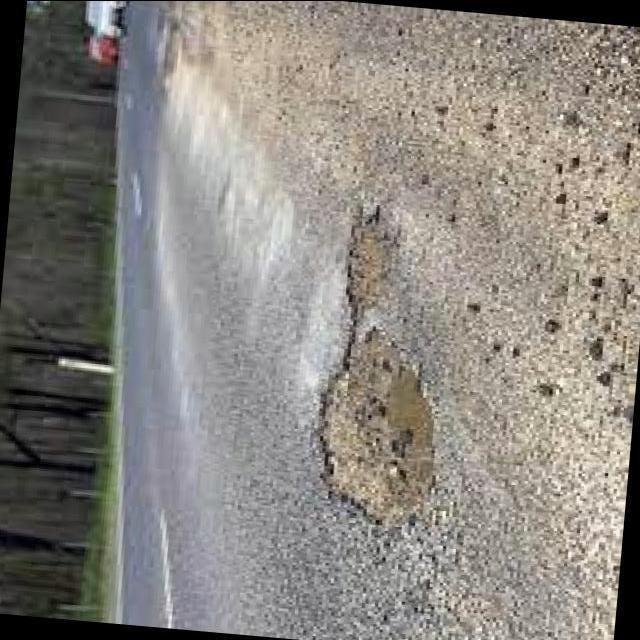pothole: (324, 229, 434, 524)
